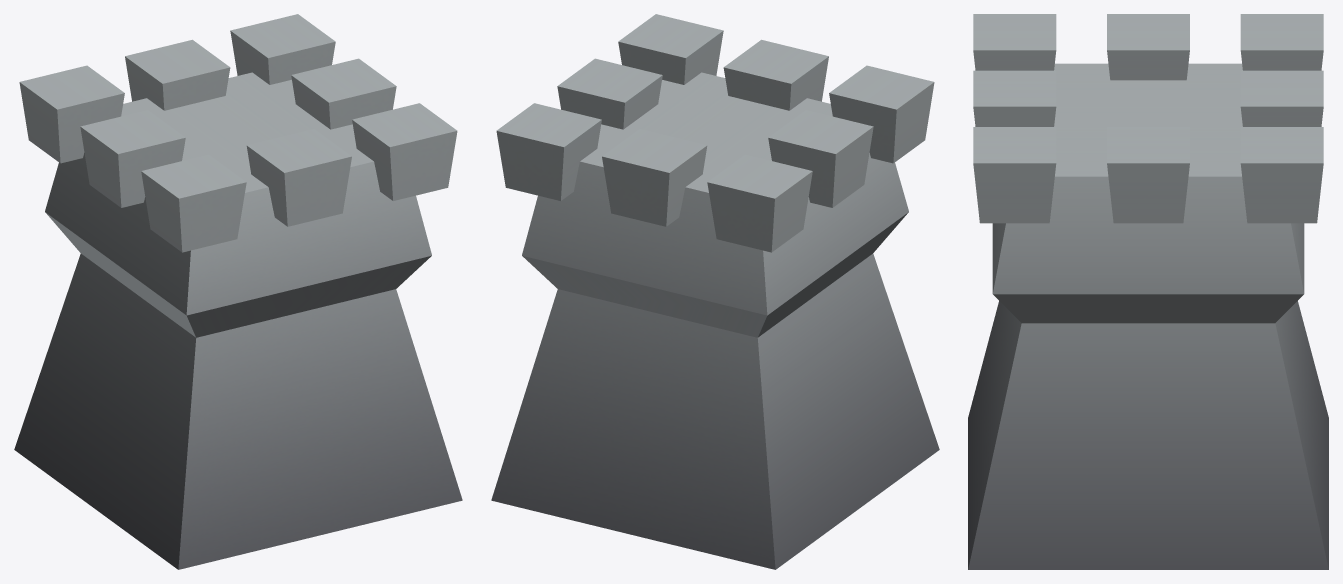
Rendered from SM_WallTall_Rampart.fbx.
3 views of the same model, side by side, from view 1: azimuth 30°, elevation 25°; view 2: azimuth 150°, elevation 25°; view 3: azimuth 270°, elevation 25° (orthographic). The views are drawn at different scales.
Parts seen in each view (by area): view 1: SM_WallTall_Rampart; view 2: SM_WallTall_Rampart; view 3: SM_WallTall_Rampart.
Part boxes in pixels (bbox=[...]): SM_WallTall_Rampart: bbox=[14, 14, 462, 569]; SM_WallTall_Rampart: bbox=[491, 14, 939, 569]; SM_WallTall_Rampart: bbox=[968, 14, 1328, 569].
Bounding box in the file's own units: 160 × 198 × 160.
